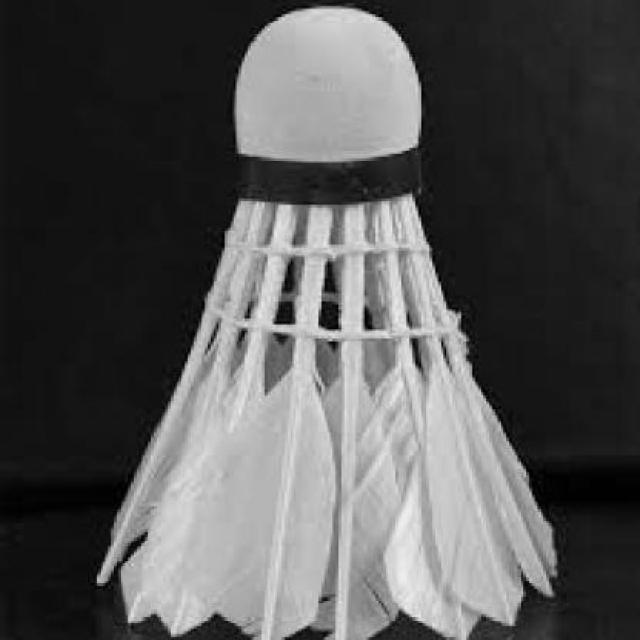Shuttlecock: (91, 3, 560, 640)
